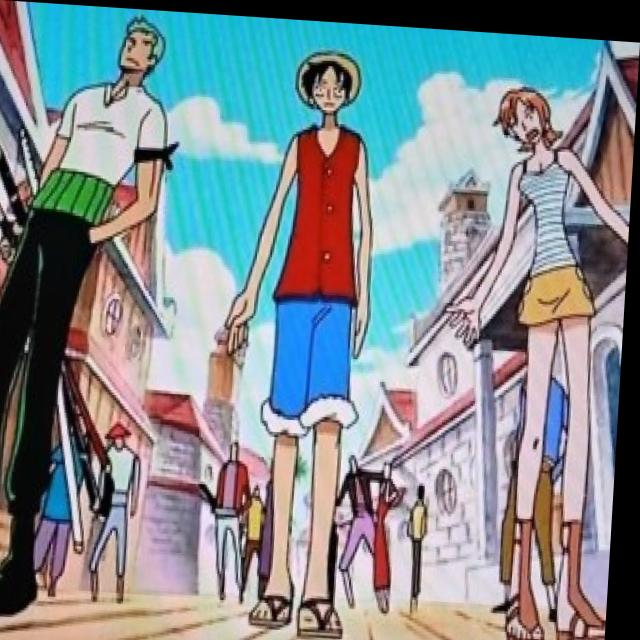Luffy: (286, 38, 375, 129)
Nami: (487, 64, 565, 153)
Zoro: (107, 11, 171, 86)
